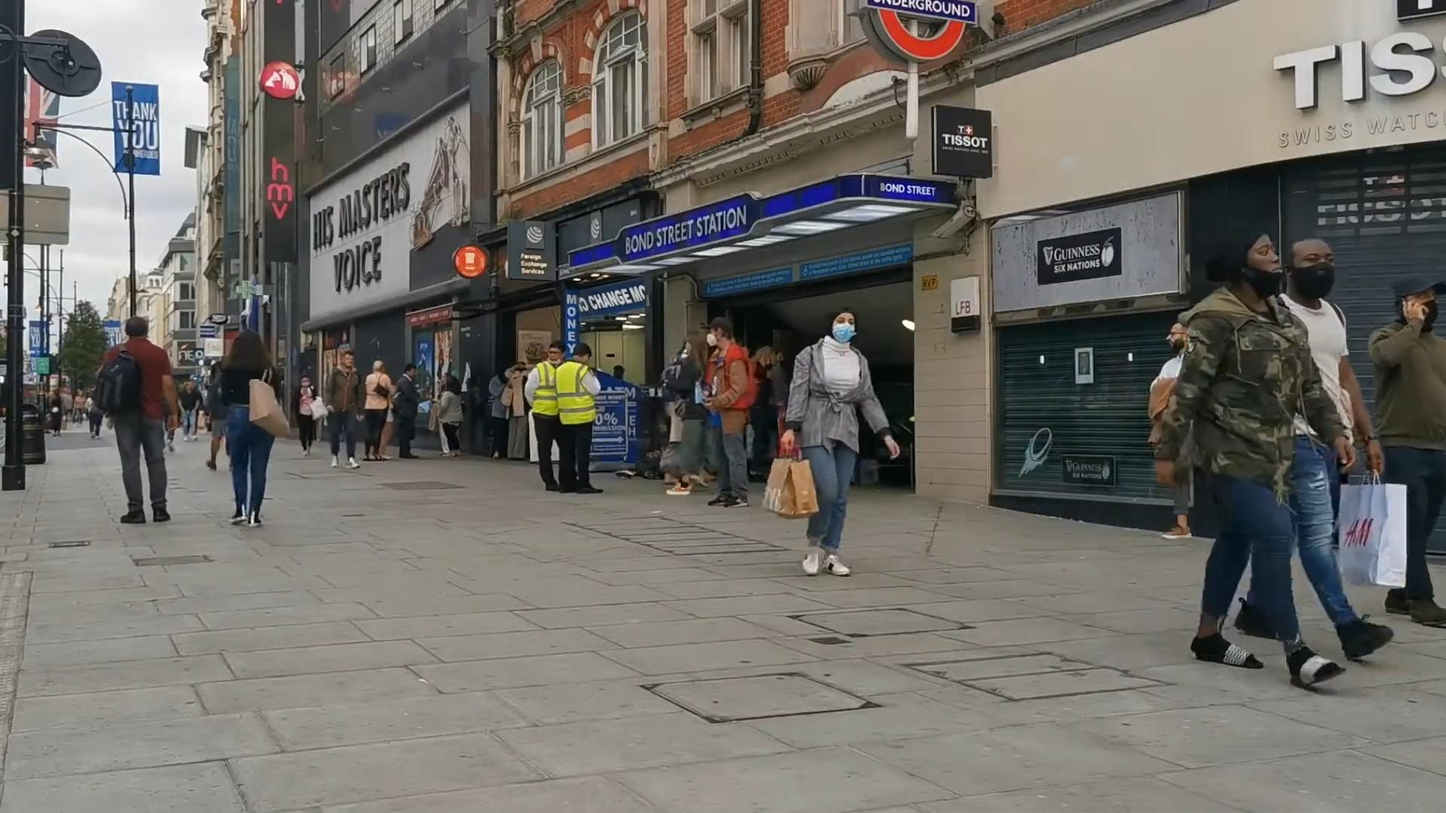no-helmet: (1222, 223, 1283, 300), (1284, 234, 1335, 299), (1392, 275, 1446, 332), (227, 329, 270, 367), (828, 307, 858, 343), (702, 317, 733, 347), (683, 335, 707, 367), (1167, 323, 1188, 353), (751, 346, 777, 369), (125, 317, 148, 339), (547, 340, 567, 365), (573, 342, 592, 364), (445, 375, 461, 395), (405, 362, 417, 380), (342, 351, 354, 368), (299, 374, 312, 387), (373, 360, 385, 374)
